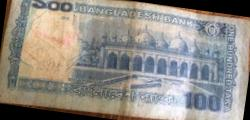100 taka: (16, 1, 245, 119)
